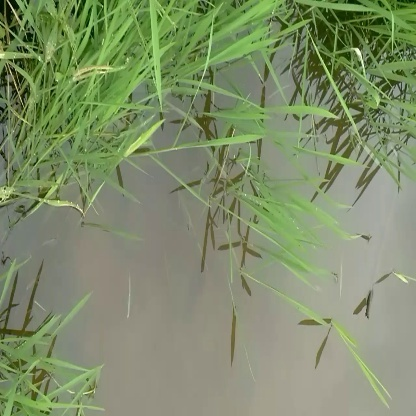grass: (226, 165, 358, 290)
